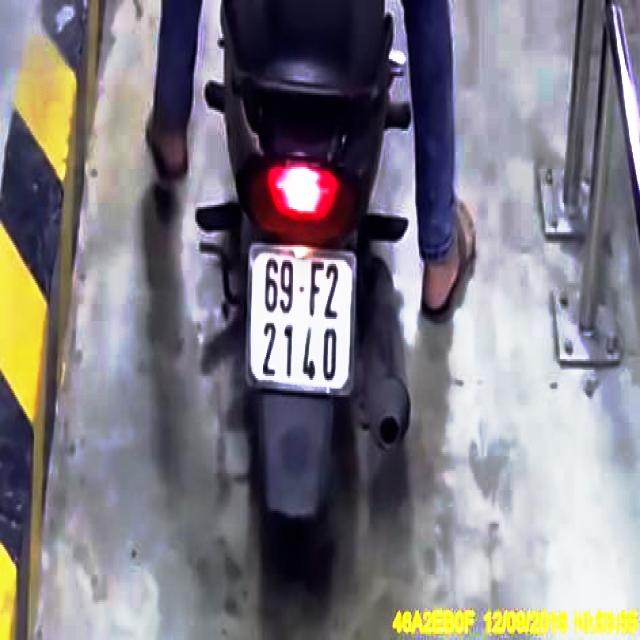license_plate: (252, 246, 354, 393)
